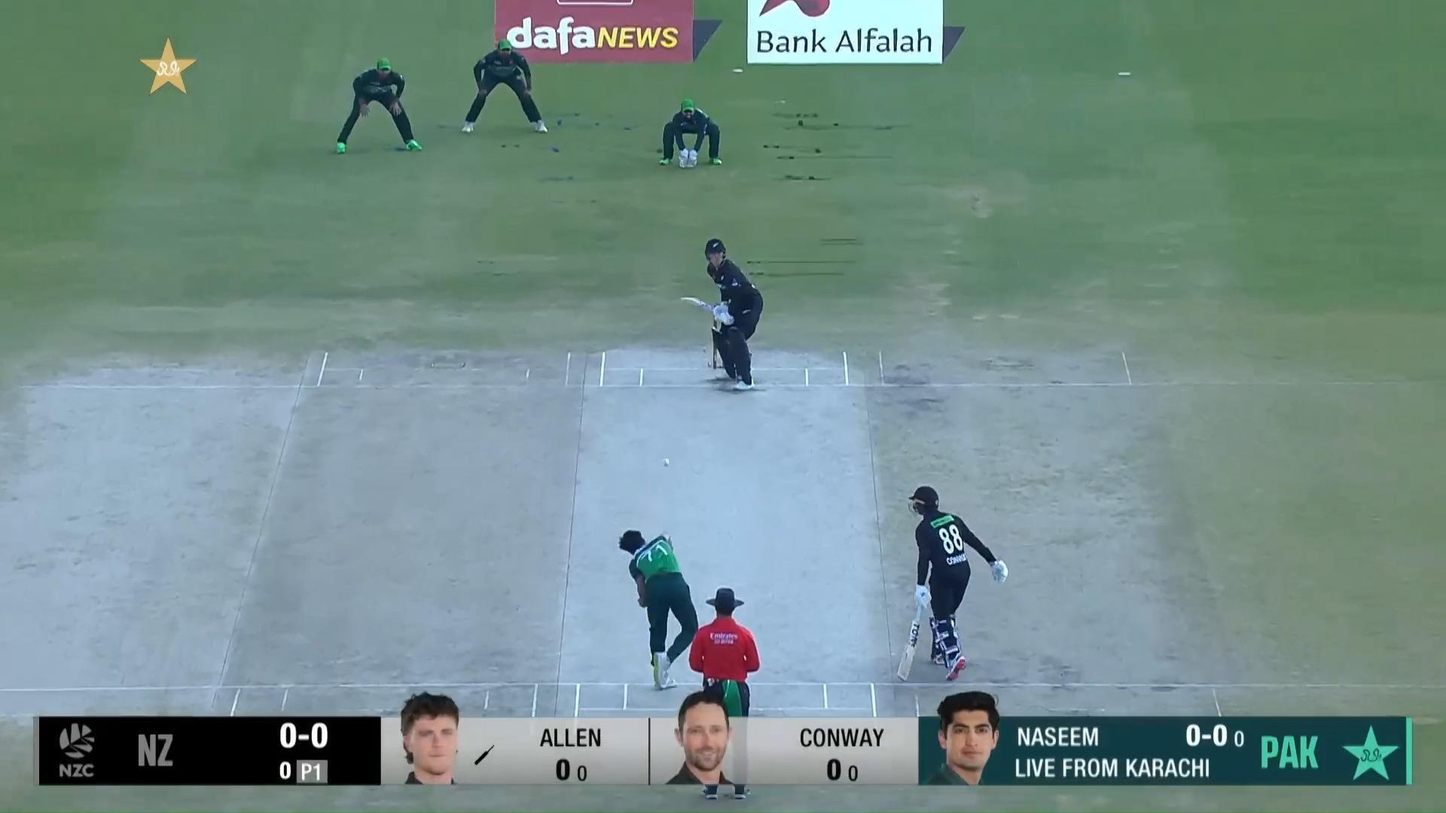BM 1: (682, 238, 763, 392)
BO: (619, 529, 698, 691)
